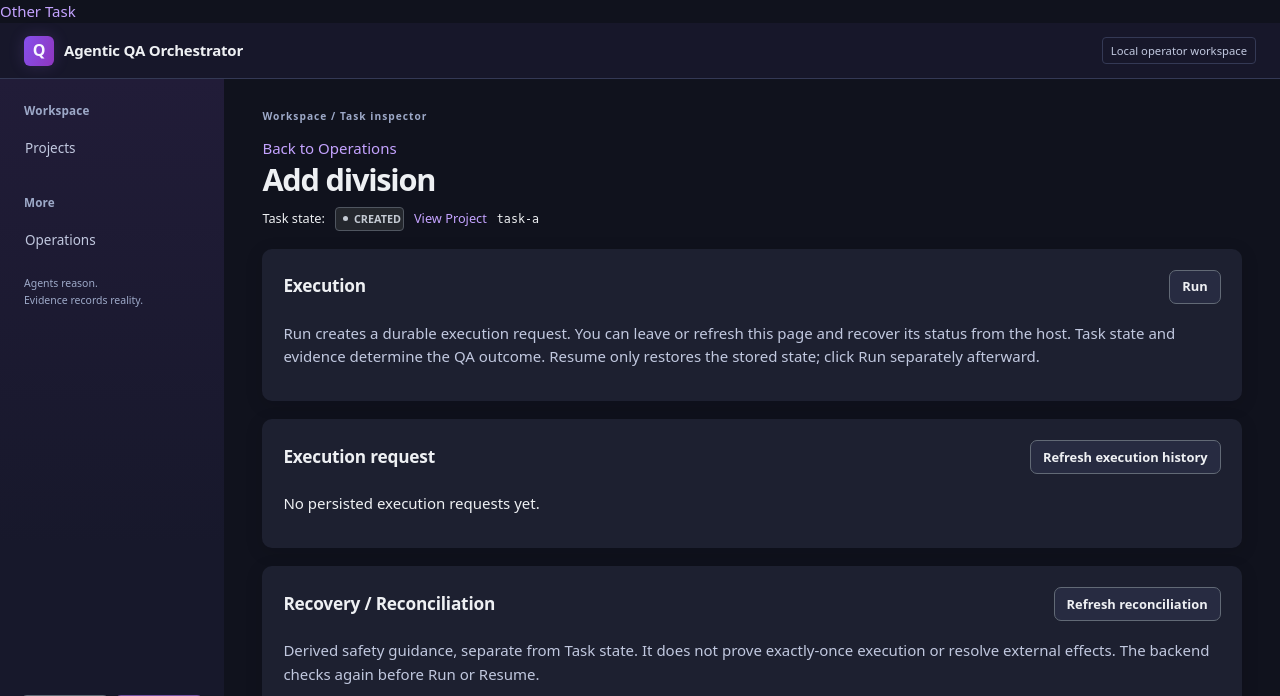
Test: derived recovery guidance › refreshes stale clear guidance after the backend rejects continuation, without retrying POST
Click the button "Run": (1195, 286) x1=1169 y1=270 x2=1221 y2=304
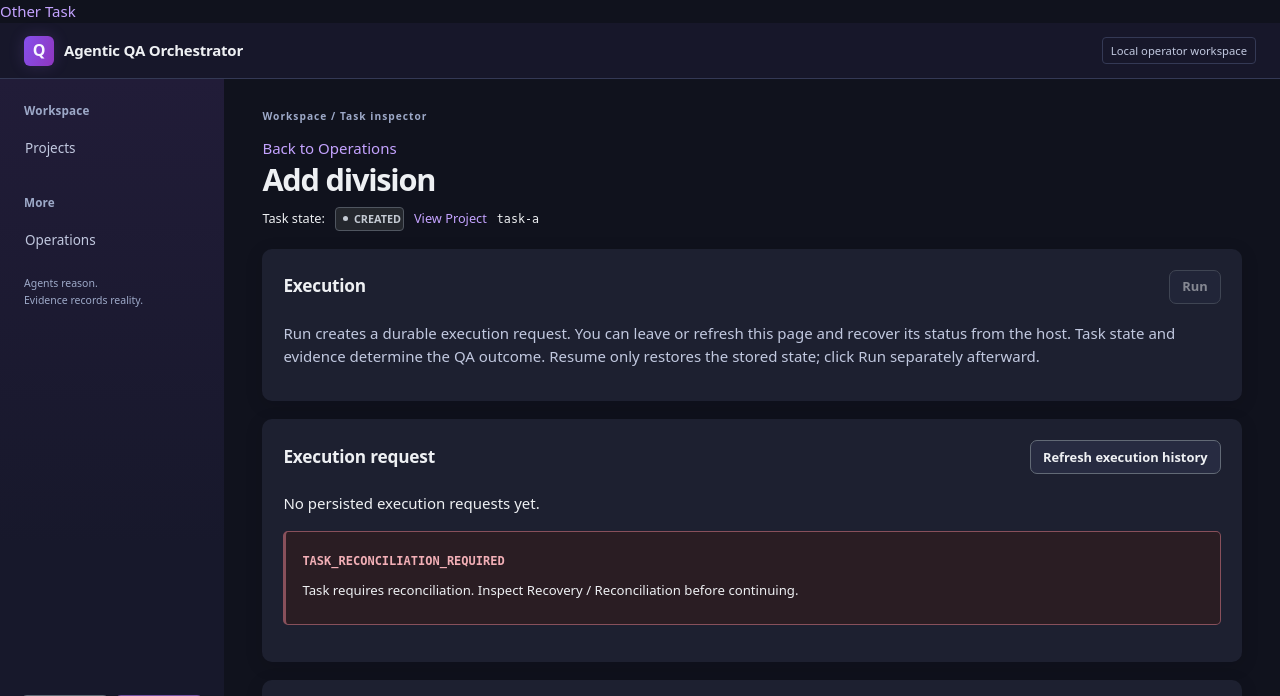
expect the button "Run" is disabled: met, box x1=1169 y1=270 x2=1221 y2=304
expect the text "Task requires reconciliation" is shown: met, box x1=302 y1=580 x2=798 y2=598
